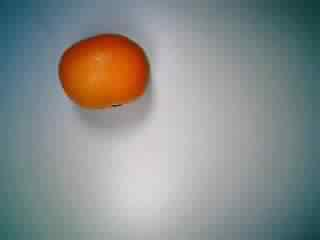orange: (53, 25, 152, 122)
